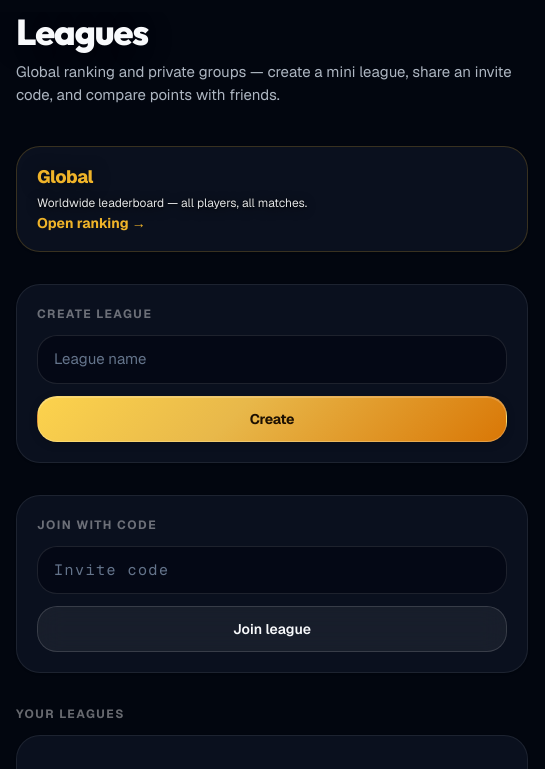
Test: Leagues page › validates short league names before submit
Expected: the heading "Leagues" is shown, top-left (16, 12), bottom-right (148, 52)
Type "A" into the field with placeholder "League name".
click(272, 359); type("A")  # box top-left (37, 335), bottom-right (507, 384)
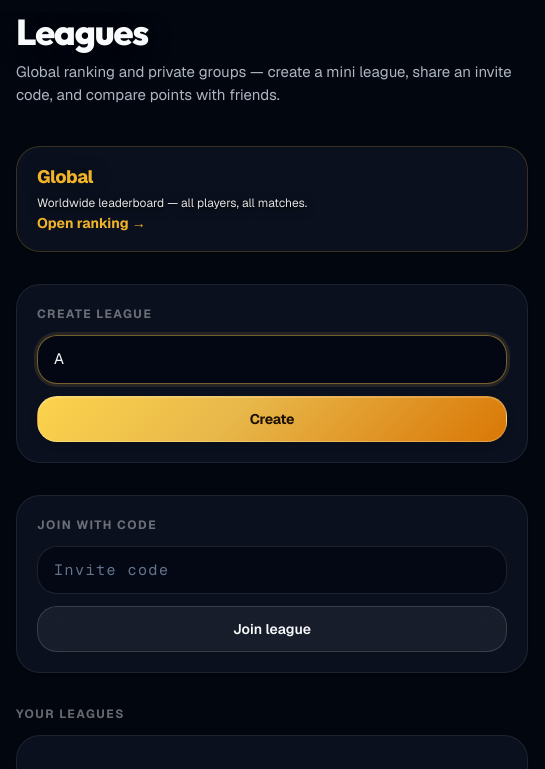
Click the button "Create".
click(272, 419)  # box top-left (37, 396), bottom-right (507, 442)
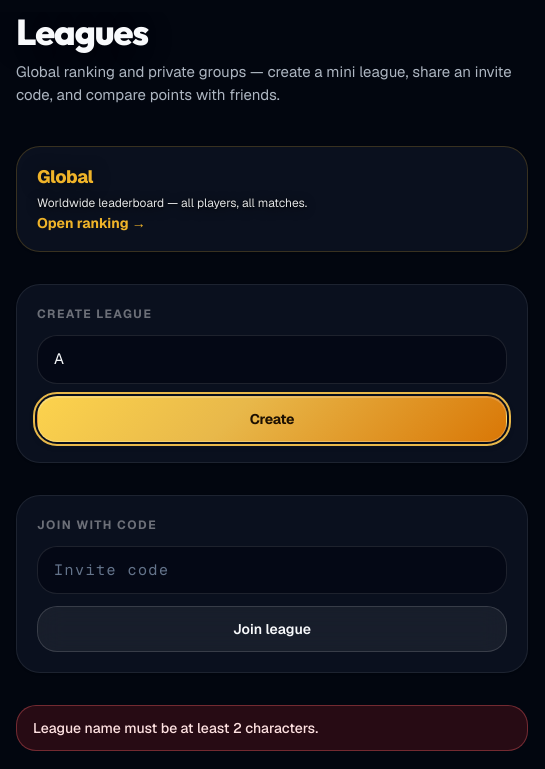
Result: the text "League name must be at least 2 characters." is shown at top-left (16, 705), bottom-right (528, 751)
